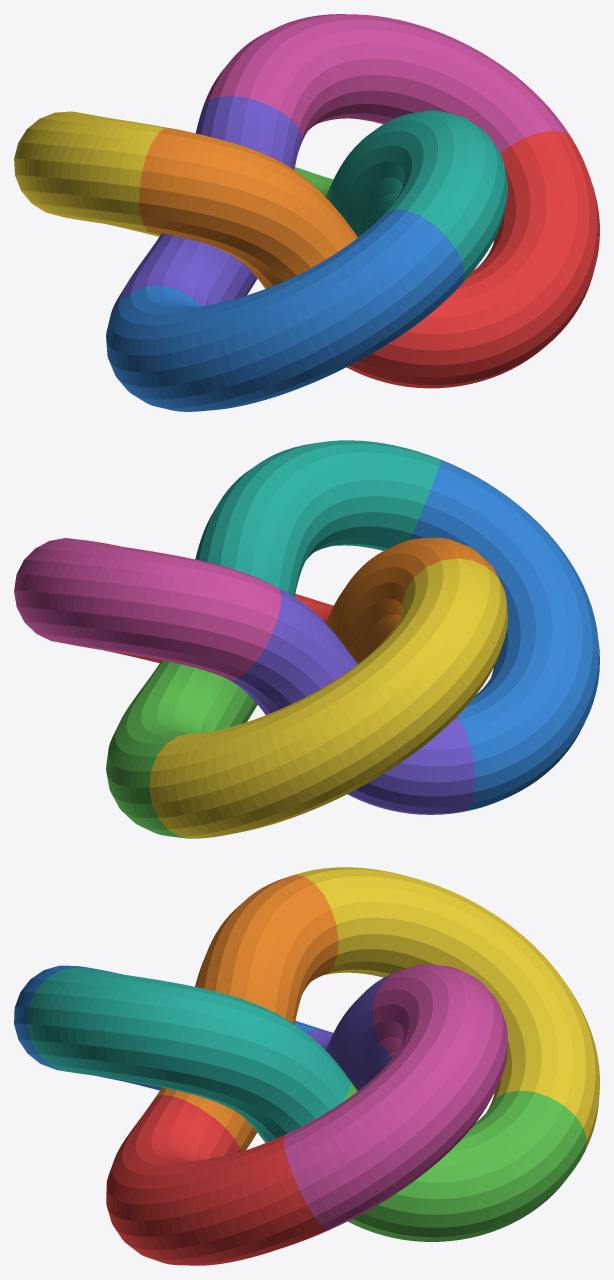
The model's file is torus_knot.obj.
3 views of the same model, one above another, from view 1: azimuth 30°, elevation 25°; view 2: azimuth 150°, elevation 25°; view 3: azimuth 270°, elevation 25° (orthographic).
Size of the model in its own units: 6.6 by 3.24 by 6.89.
